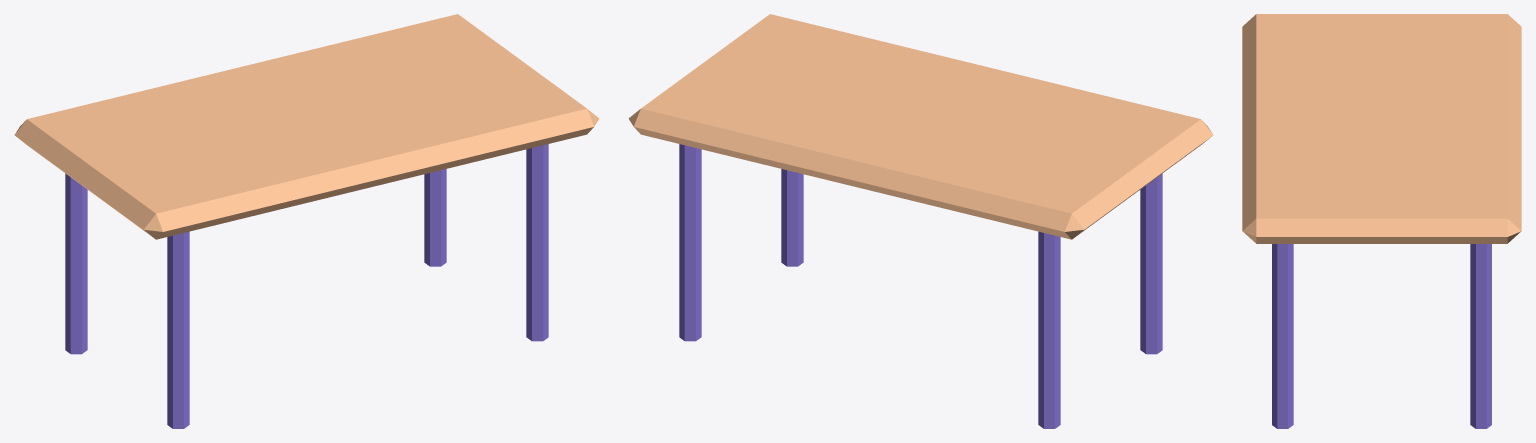
3 views of the same model, side by side, from view 1: azimuth 30°, elevation 25°; view 2: azimuth 150°, elevation 25°; view 3: azimuth 270°, elevation 25° (orthographic). The views are drawn at different scales.
Visible parts, largest first — view 1: Rounded table top, Leg.002, Leg, Leg.001, Leg.003; view 2: Rounded table top, Leg.003, Leg.001, Leg, Leg.002; view 3: Rounded table top, Leg.002, Leg.003.
Boxes of the visible parts, left/top/right/bottom form: Rounded table top: left=14, top=14, right=599, bottom=239; Leg.002: left=526, top=144, right=548, bottom=341; Leg: left=167, top=231, right=189, bottom=428; Leg.001: left=65, top=173, right=87, bottom=354; Leg.003: left=424, top=169, right=446, bottom=266; Rounded table top: left=628, top=14, right=1213, bottom=239; Leg.003: left=679, top=144, right=701, bottom=341; Leg.001: left=1038, top=231, right=1060, bottom=428; Leg: left=1140, top=173, right=1162, bottom=354; Leg.002: left=781, top=169, right=803, bottom=266; Rounded table top: left=1242, top=14, right=1521, bottom=243; Leg.002: left=1272, top=244, right=1293, bottom=428; Leg.003: left=1470, top=244, right=1491, bottom=428.
Bounding box in the file's own units: 165 × 79.5 × 90.
